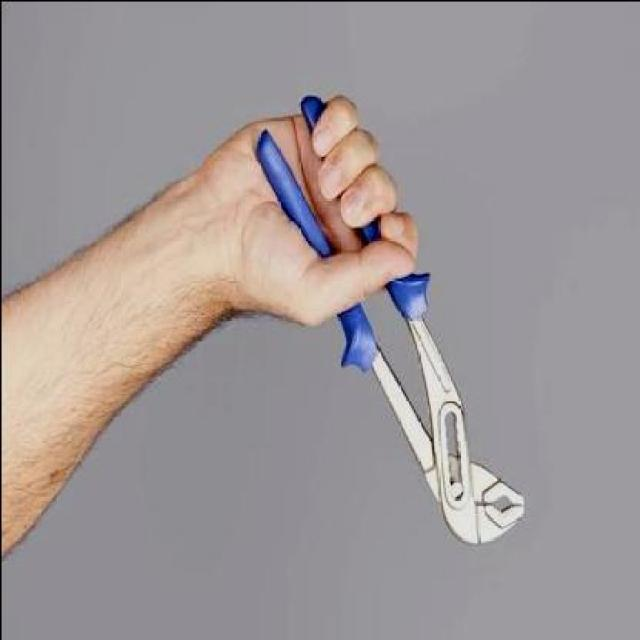pliers: (352, 325, 534, 553)
